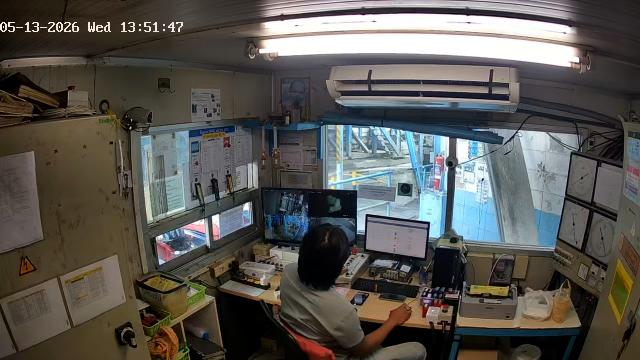Head: (298, 224, 350, 290)
People: (280, 224, 426, 359)
Phone: (379, 293, 406, 302), (351, 292, 369, 305)
